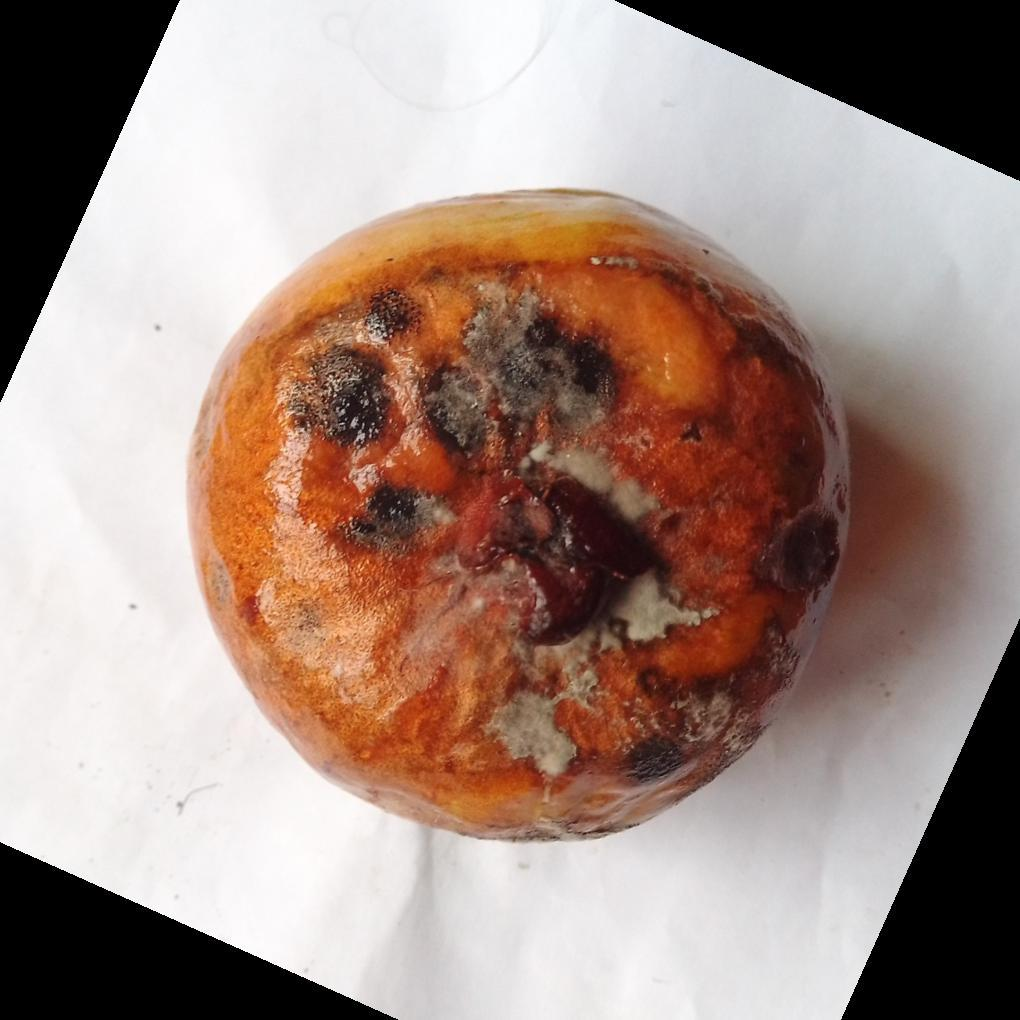FreshOrange: (185, 188, 852, 846)
